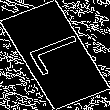L_NE: (18, 30, 92, 80)
